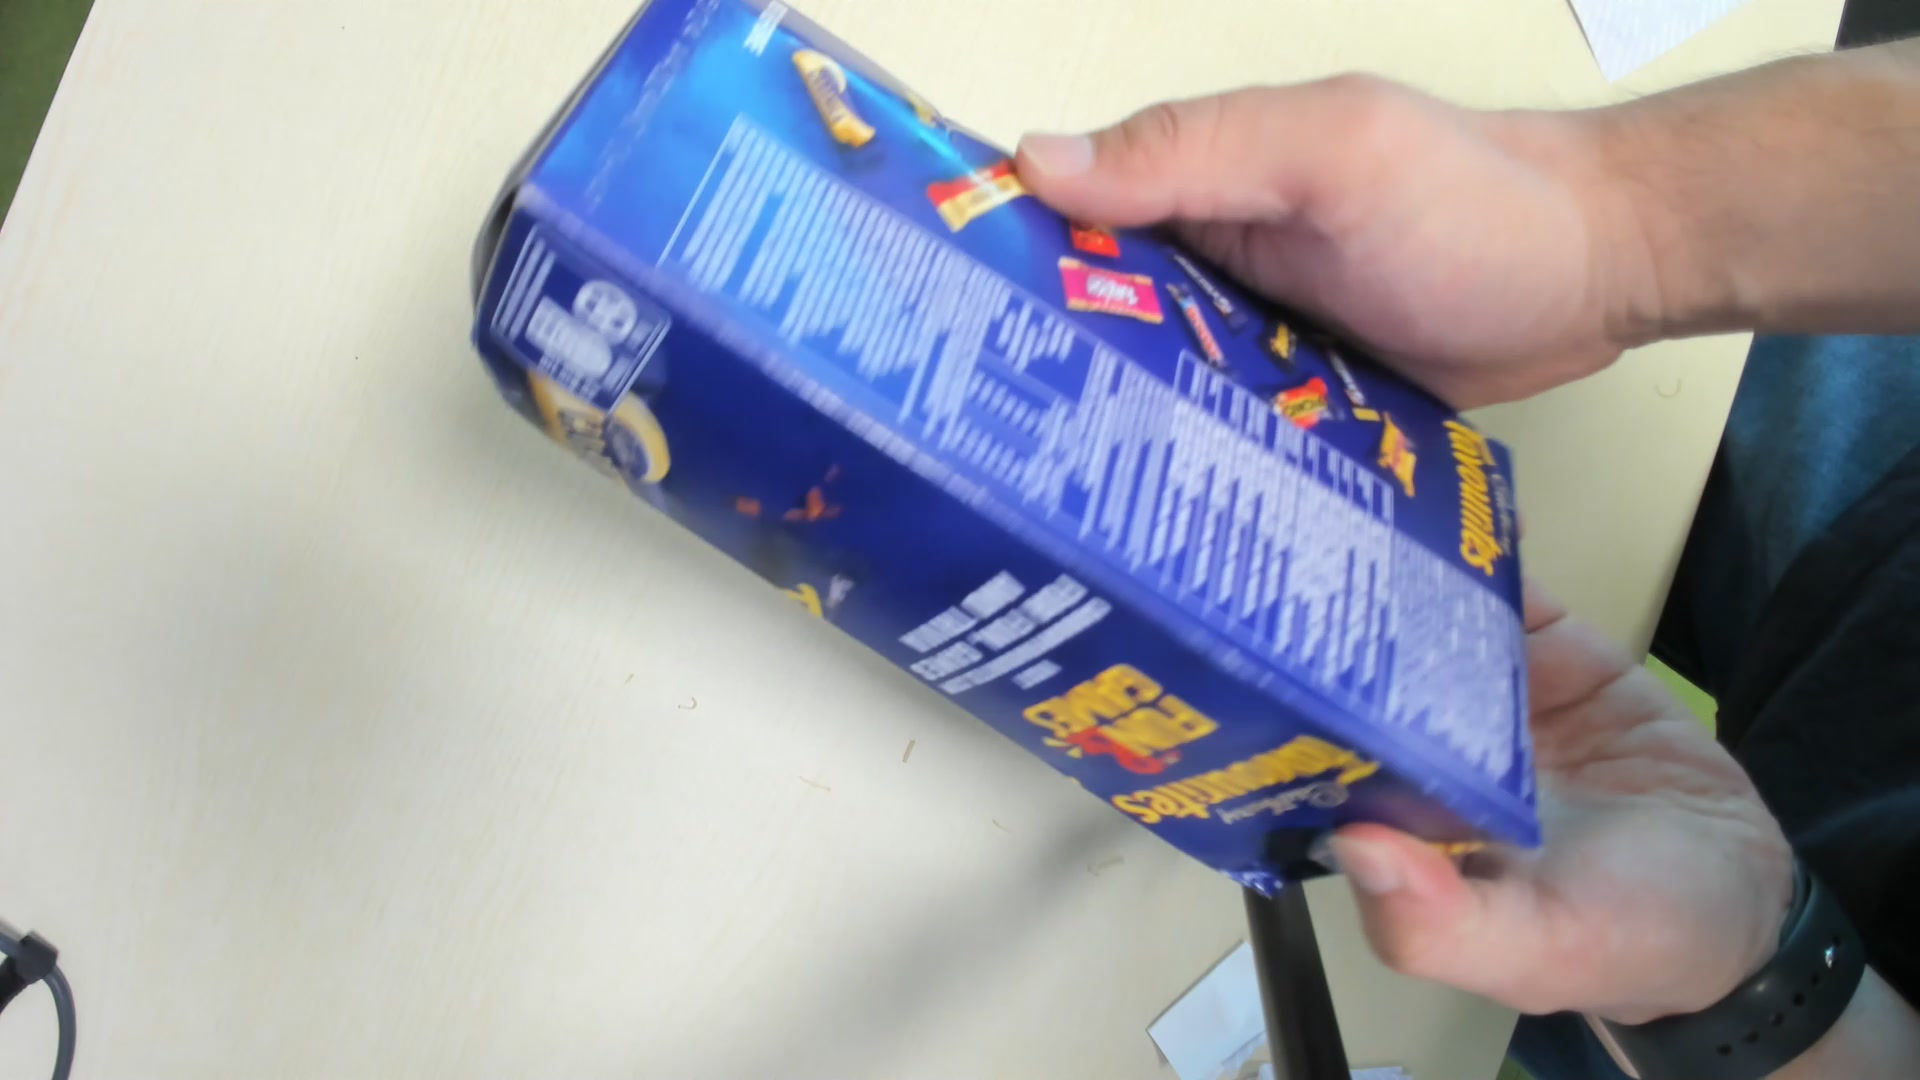SweetsChocolatesOthers_300-399g_NonHalal_Nonhealthy: (459, 16, 1543, 899)
